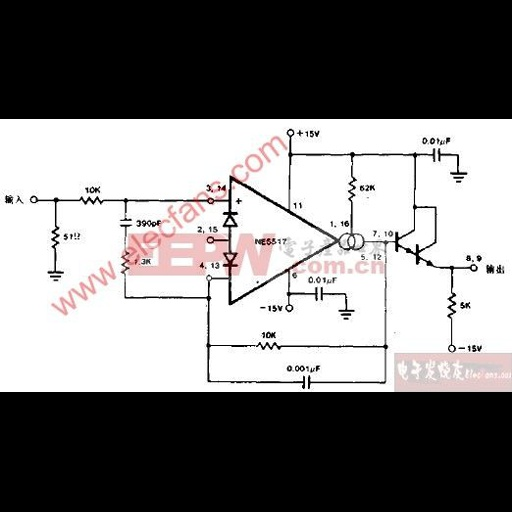capacitor: (310, 284, 328, 303), (298, 372, 315, 390), (116, 214, 134, 229)
gnd: (443, 168, 473, 186), (335, 307, 360, 322)
npn: (391, 226, 416, 255), (414, 241, 437, 268)
seconddiode: (220, 249, 241, 269), (220, 209, 239, 230)
secondresistance: (442, 289, 457, 324), (345, 171, 358, 207), (47, 221, 61, 254), (118, 248, 132, 281), (74, 193, 107, 207), (255, 340, 283, 353)
